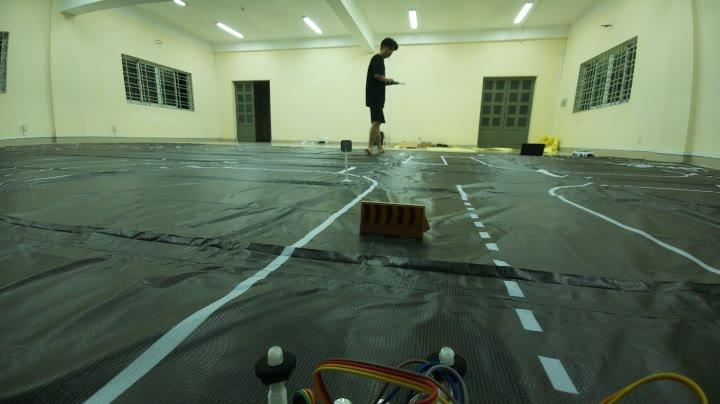roadblock: (356, 194, 437, 253)
